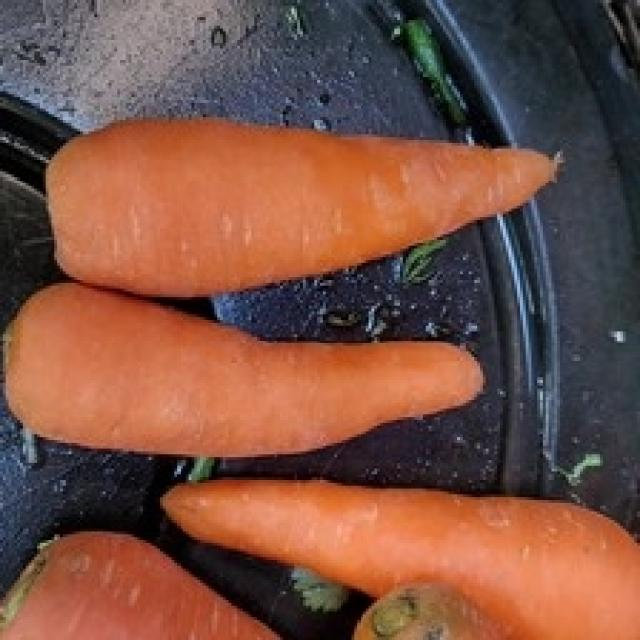carrot: (43, 117, 551, 291), (3, 280, 477, 451), (160, 477, 634, 634)
